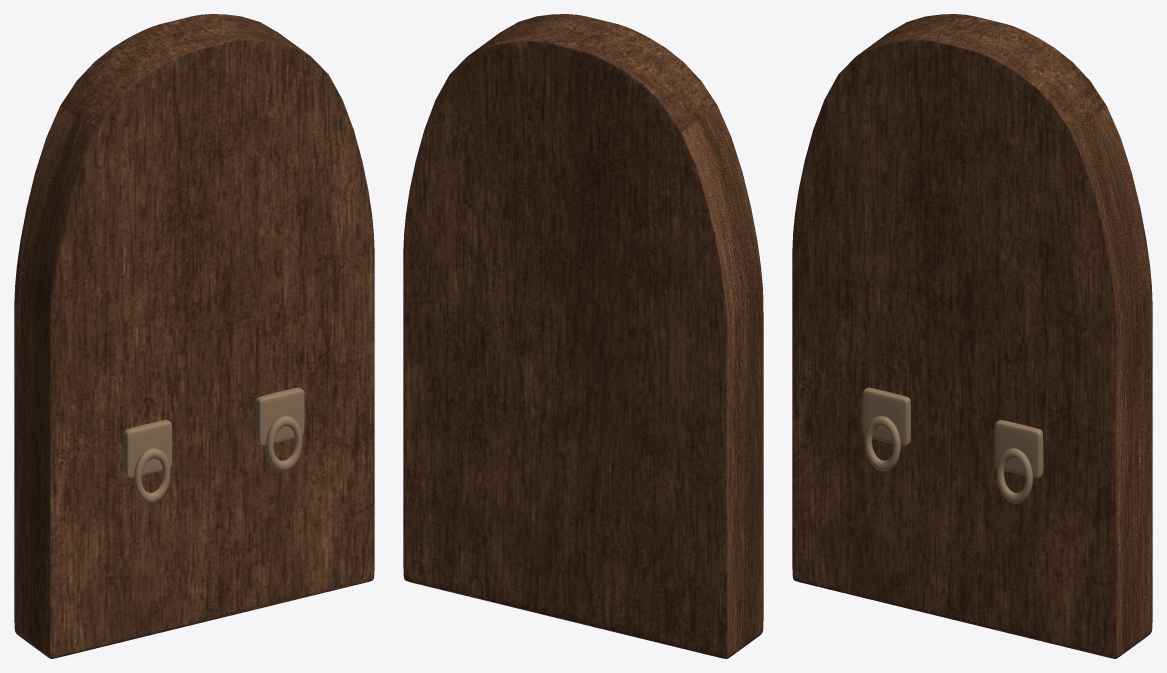
Rendered from door.glb.
3 views of the same model, side by side, from view 1: azimuth 30°, elevation 25°; view 2: azimuth 150°, elevation 25°; view 3: azimuth 330°, elevation 25° (orthographic).
Parts seen in each view (by area): view 1: group3 (×3); view 2: group3; view 3: group3 (×3).
Boxes of the visible parts, box(x1,y1,x2,y2) form: group3 (×3): box(14, 14, 374, 658); group3: box(403, 14, 763, 658); group3 (×3): box(792, 14, 1152, 658).
Bounding box in the file's own units: 3.12 × 5.28 × 0.7451.
3 materials, 3 textured.
